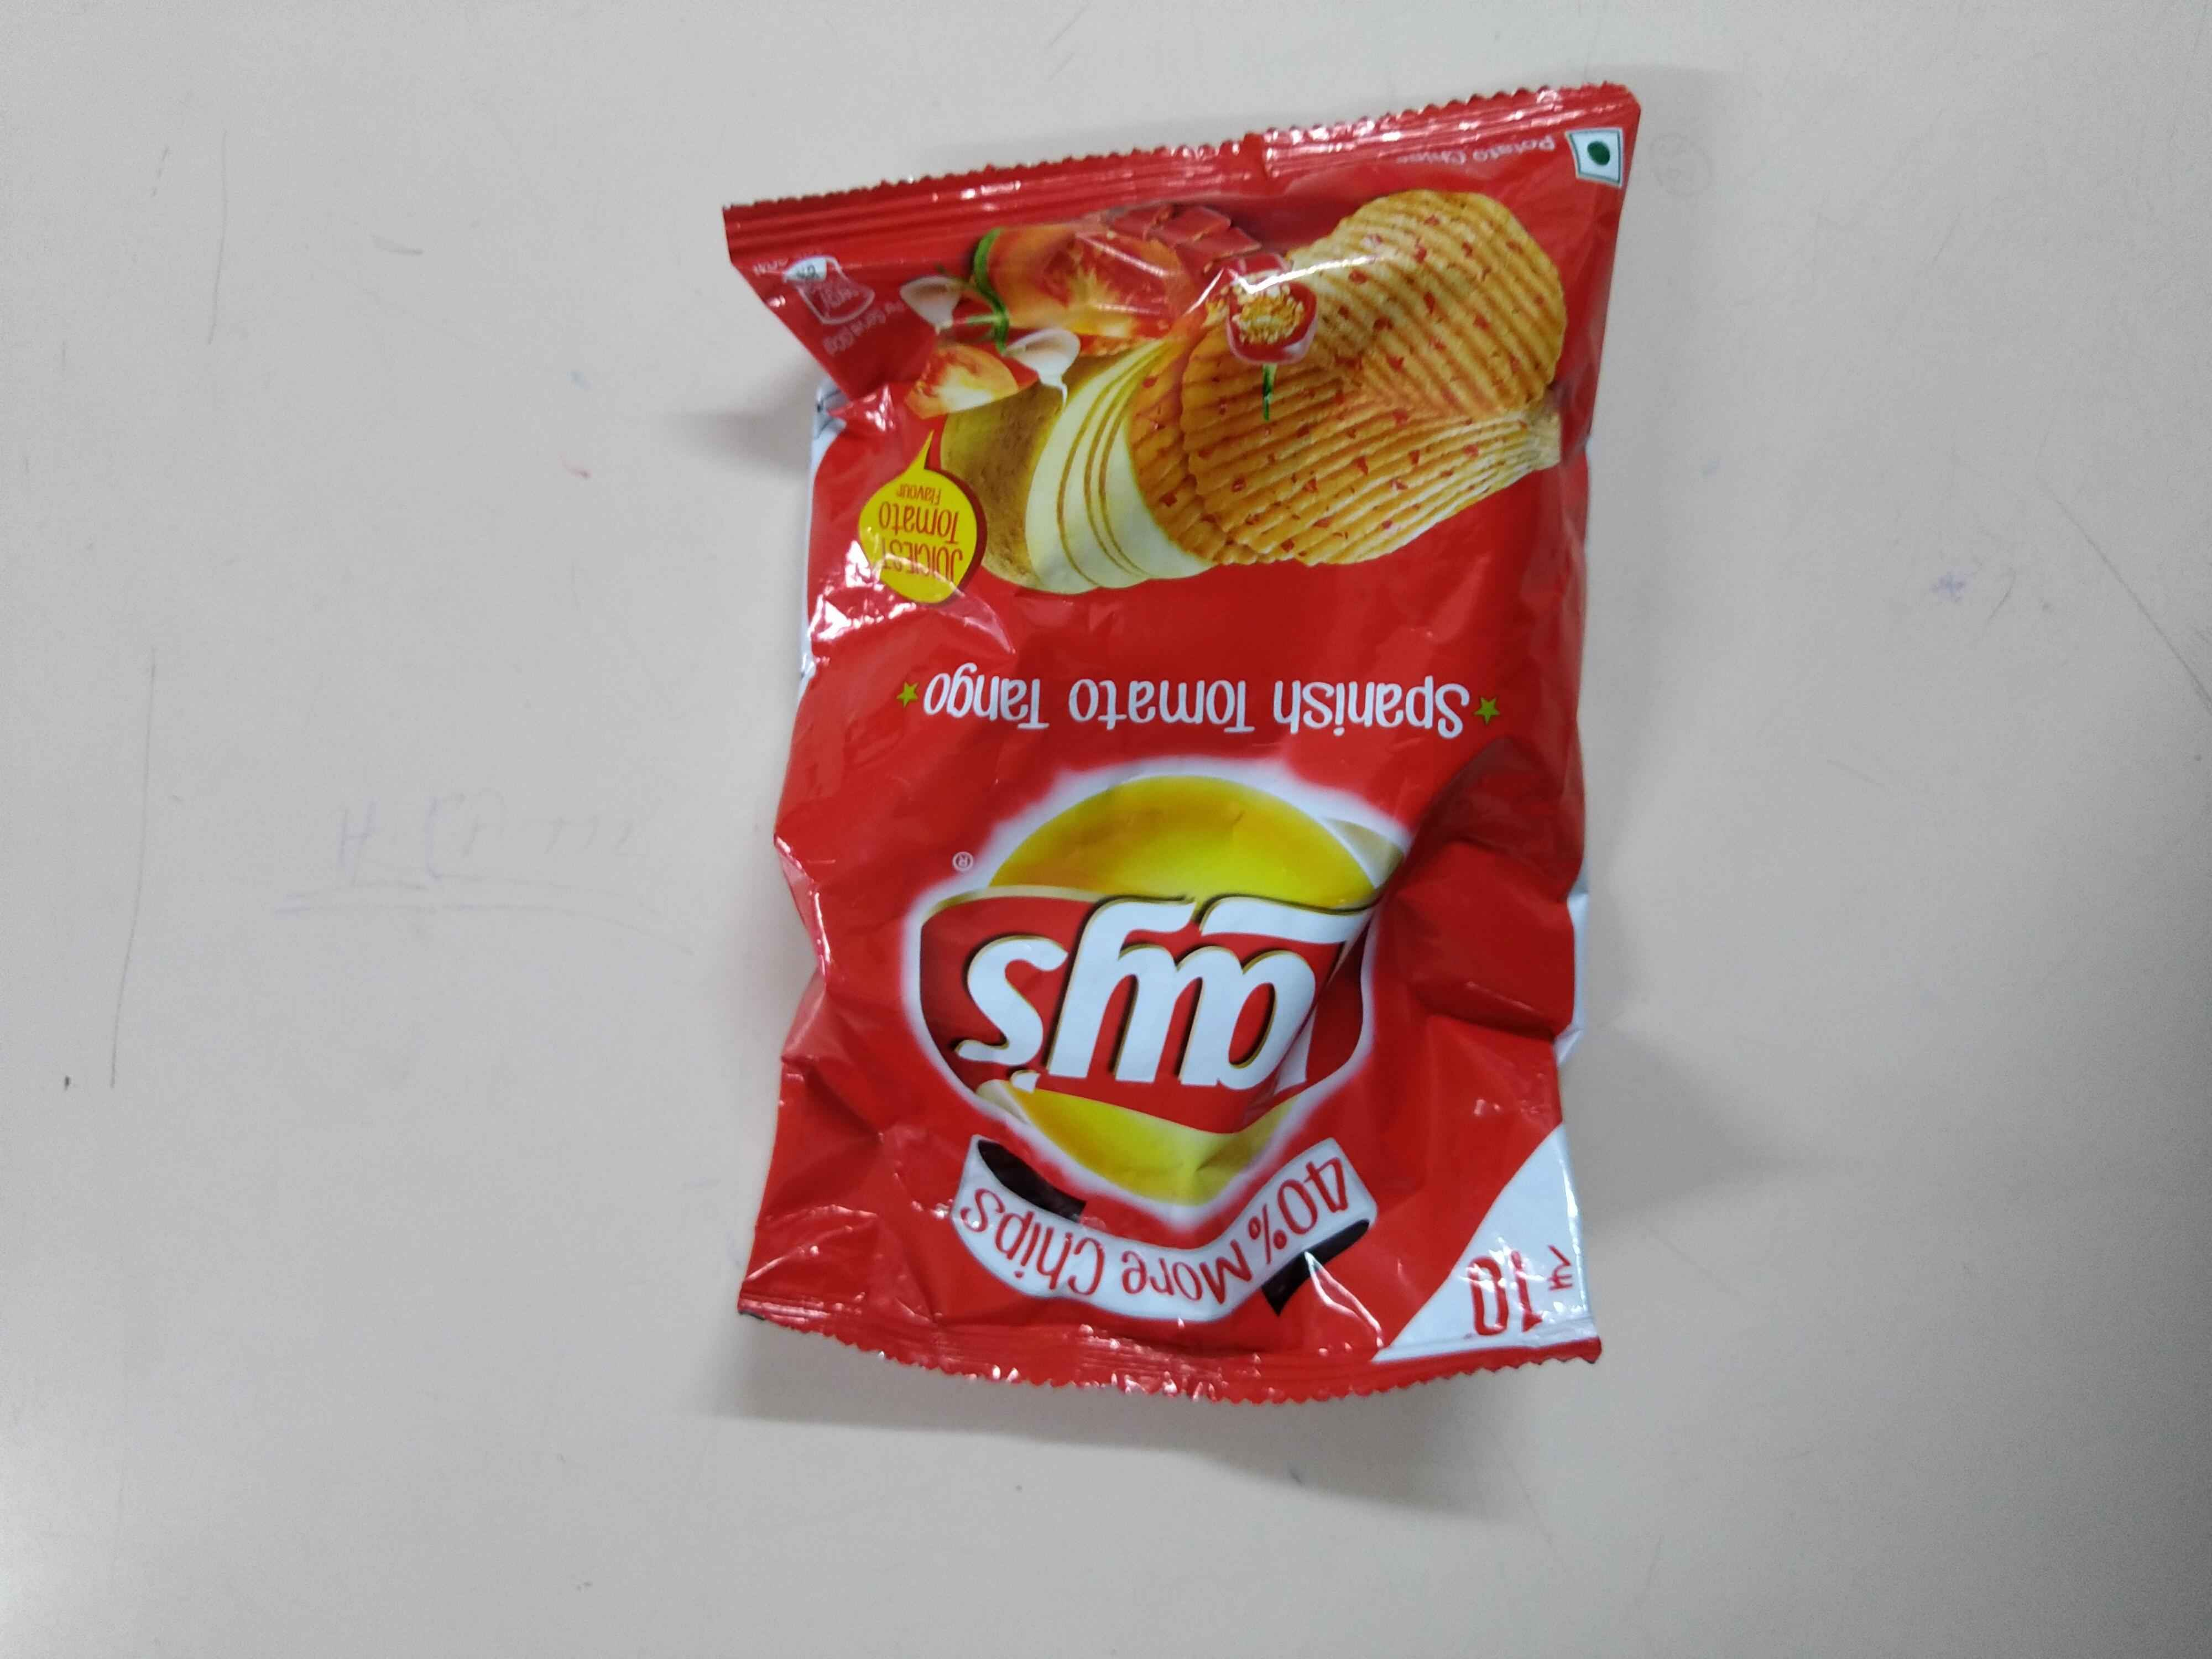Lays: (904, 758, 1385, 1208)
